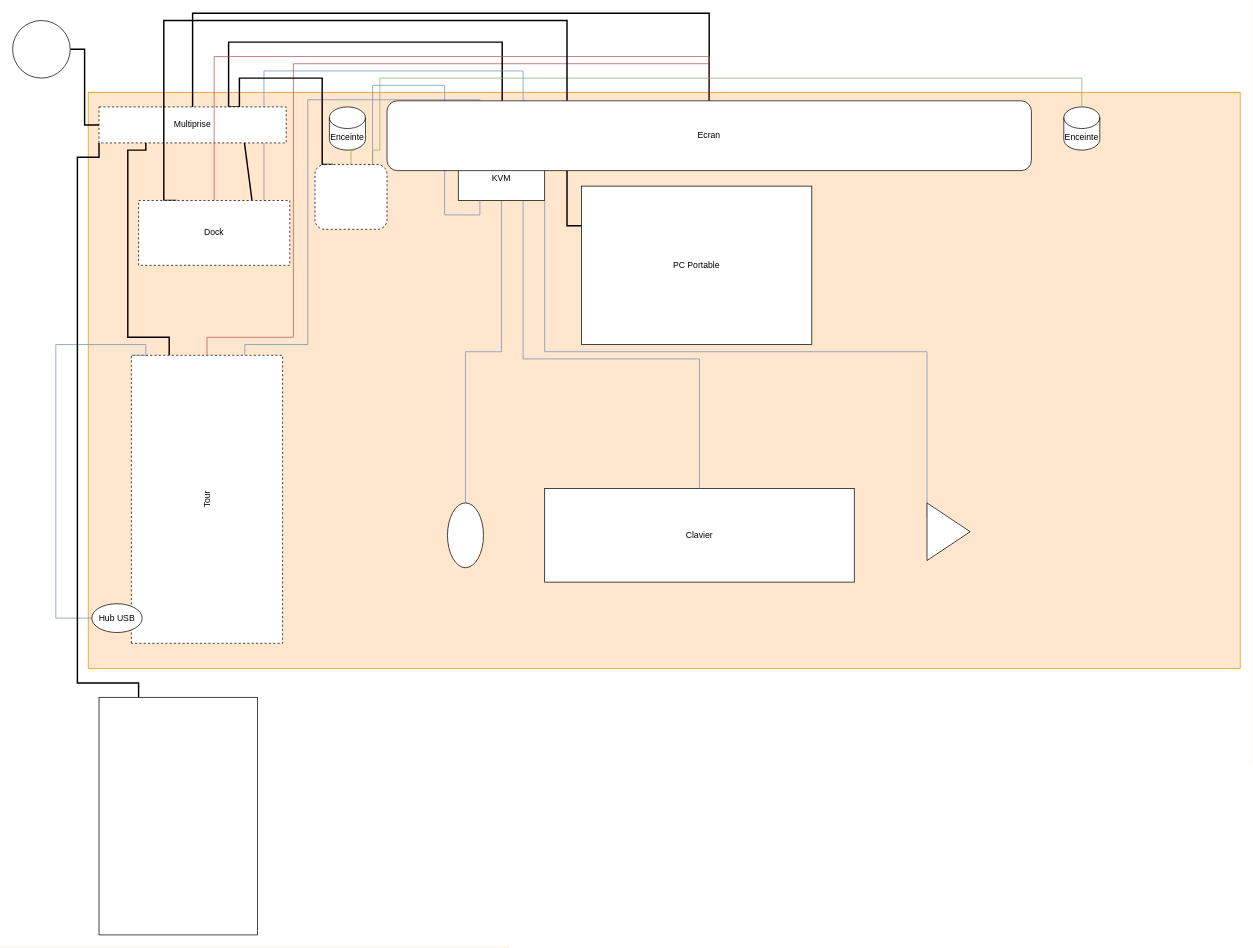
This 1253x948 diagram has some shape labels left out. The centre of each missing label's shape, as x and y in pixels:
Alim murale: point (41, 49)
Caisson: point (350, 196)
Casque: point (948, 531)
Imprimante: point (177, 816)
Souris: point (465, 535)
